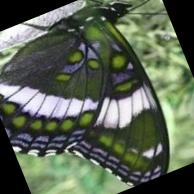butterfly: (0, 1, 169, 186)
